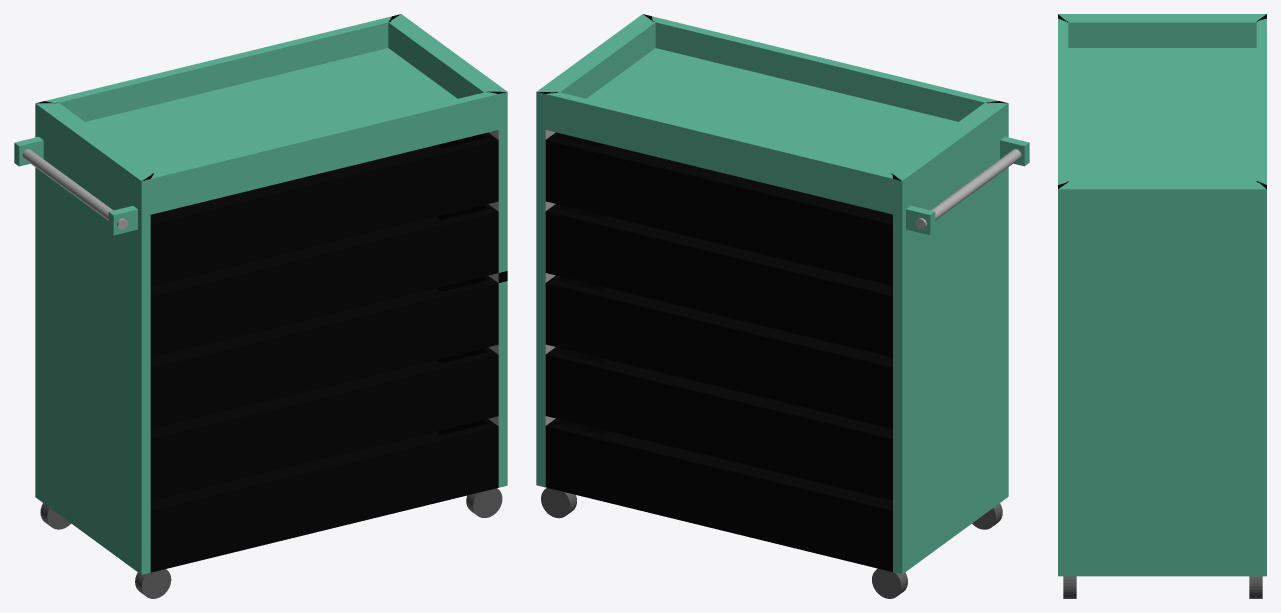
Rendered from Infirmary Equipment 1 (Kart).fbx.
3 views of the same model, side by side, from view 1: azimuth 30°, elevation 25°; view 2: azimuth 150°, elevation 25°; view 3: azimuth 270°, elevation 25° (orthographic).
Visible parts, largest first — view 1: Cube; view 2: Cube; view 3: Cube.
Part boxes in pixels (x1,y1,x2,y2): Cube: (14, 14, 507, 598); Cube: (536, 14, 1029, 598); Cube: (1058, 14, 1266, 598).
Size of the model in its own units: 796 by 825 by 376.
